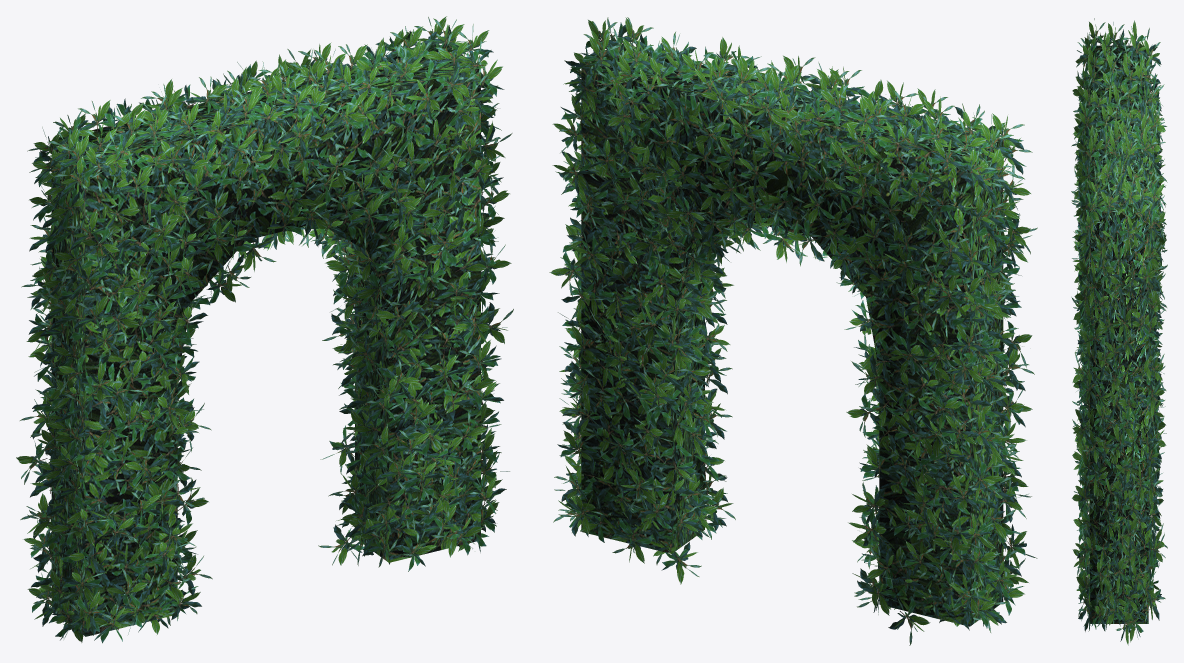
File: Hedge_Arch.fbx
3 views of the same model, side by side, from view 1: azimuth 30°, elevation 25°; view 2: azimuth 150°, elevation 25°; view 3: azimuth 270°, elevation 25° (orthographic). The views are drawn at different scales.
Visible parts, largest first — view 1: Hedge_Arch; view 2: Hedge_Arch; view 3: Hedge_Arch.
Part boxes in pixels (left/top/right/bottom): Hedge_Arch: left=16, top=16, right=513, bottom=643; Hedge_Arch: left=549, top=17, right=1037, bottom=645; Hedge_Arch: left=1071, top=18, right=1167, bottom=645.
Bounding box in the file's own units: 1.9 × 2.1 × 0.4.
1 material, 1 textured.
